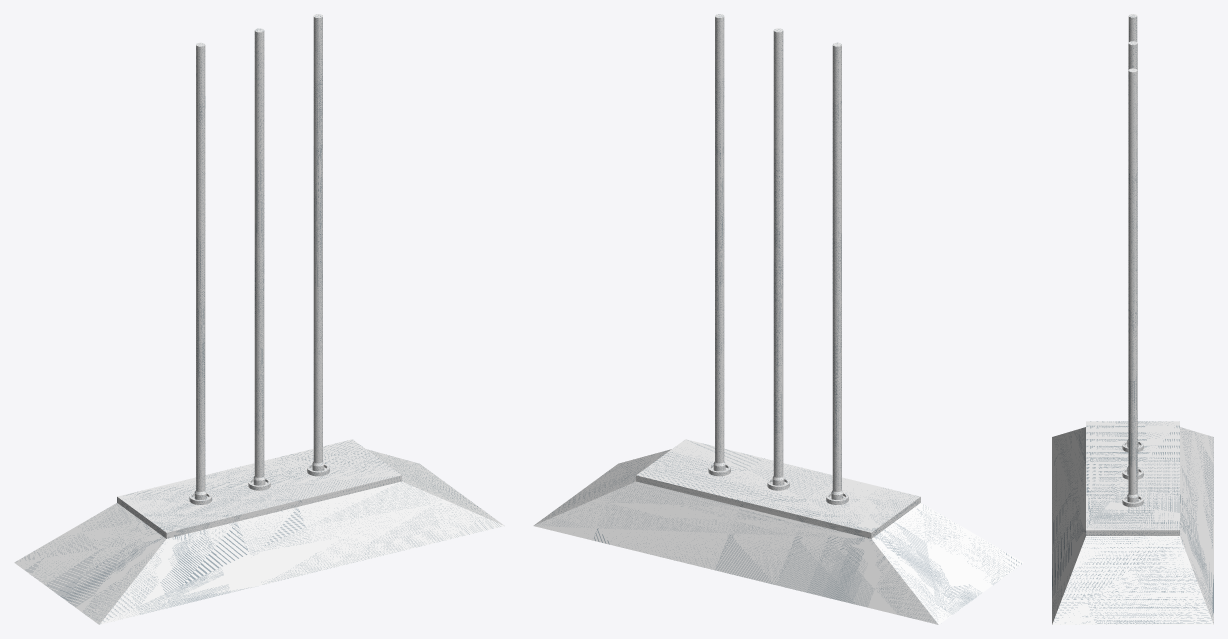
The model's file is HoodLight.fbx.
3 views of the same model, side by side, from view 1: azimuth 30°, elevation 25°; view 2: azimuth 150°, elevation 25°; view 3: azimuth 270°, elevation 25° (orthographic). The views are drawn at different scales.
Visible parts, largest first — view 1: Hood1, Plugs1, Cap1; view 2: Hood1, Plugs1, Cap1; view 3: Hood1, Cap1, Plugs1.
Boxes of the visible parts, x1,y1,x2,y2 form: Hood1: (14,449,504,624); Plugs1: (189,14,329,504); Cap1: (117,439,401,538); Hood1: (533,449,1023,624); Plugs1: (708,14,848,504); Cap1: (636,439,920,538); Hood1: (1052,427,1213,624); Cap1: (1086,421,1179,535); Plugs1: (1122,14,1143,507).
Bounding box in the file's own units: 2090 × 2529 × 760.
